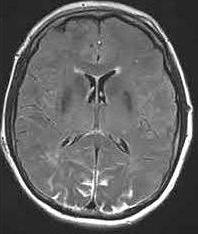Normal_Brain: (1, 1, 194, 234)
